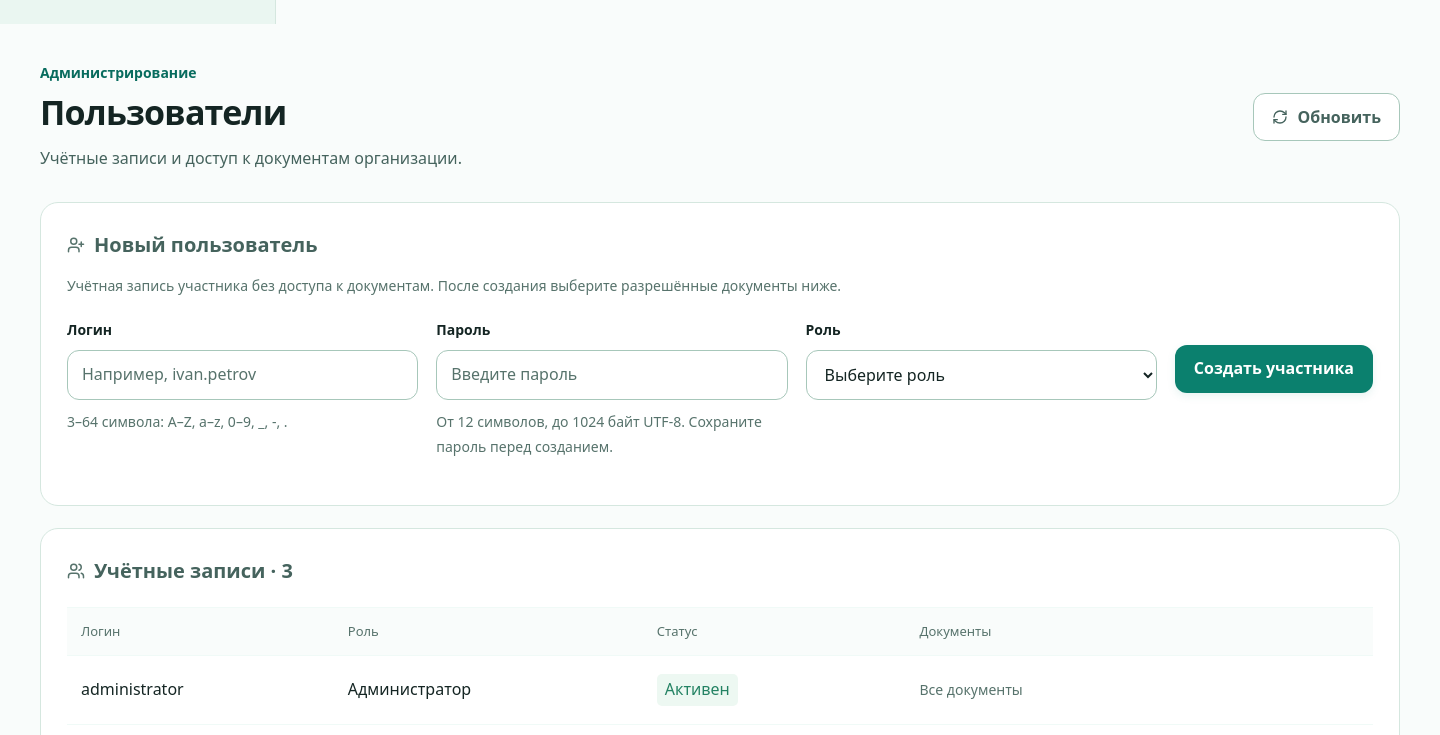
it: member creation with a visual job role › shows safe HTTP 400 error and clears the password
(page scrolled)
Step 1. Type "new.member" into the field with id "new-username" → (243, 375), box 67,350 -> 418,400
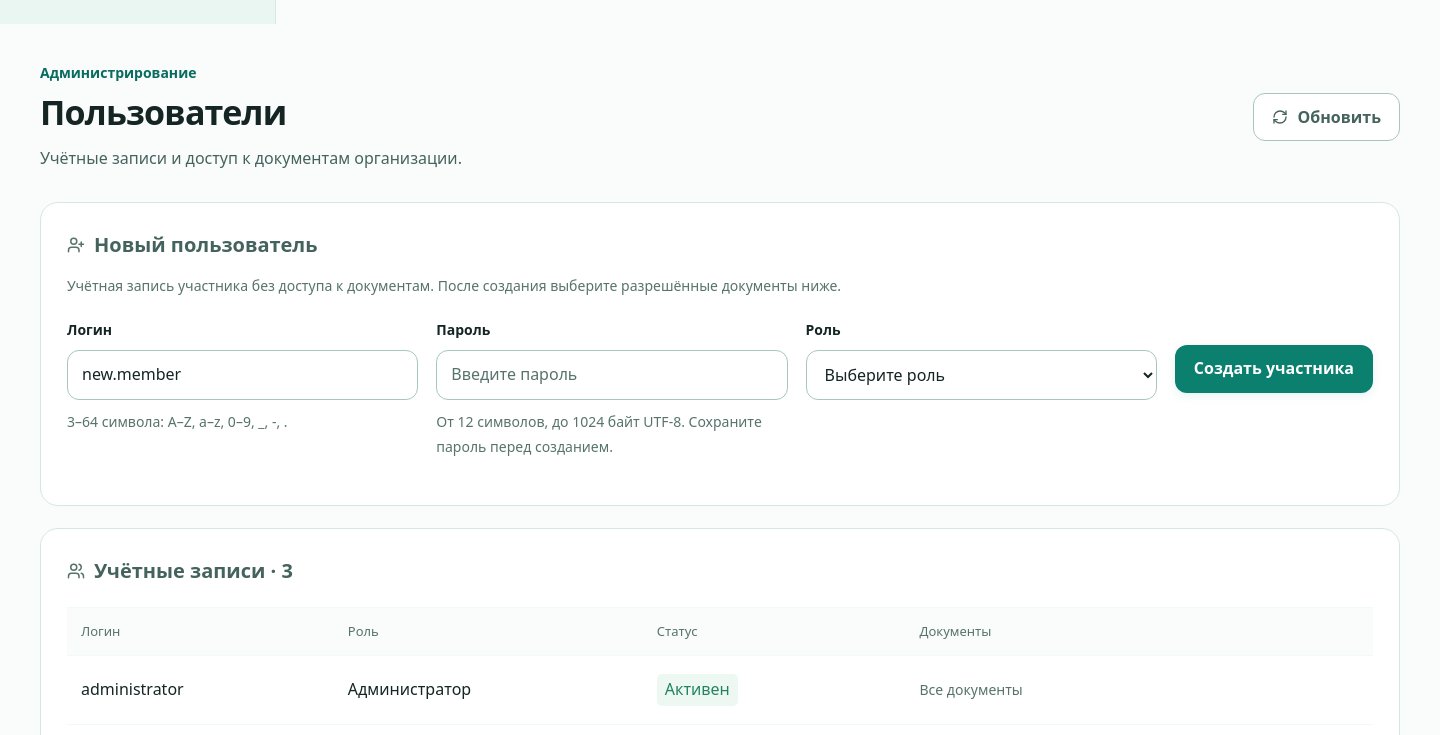
Step 2. Type "fixture-password-123" into the password field with id "new-password" → (612, 375), box 436,350 -> 788,400
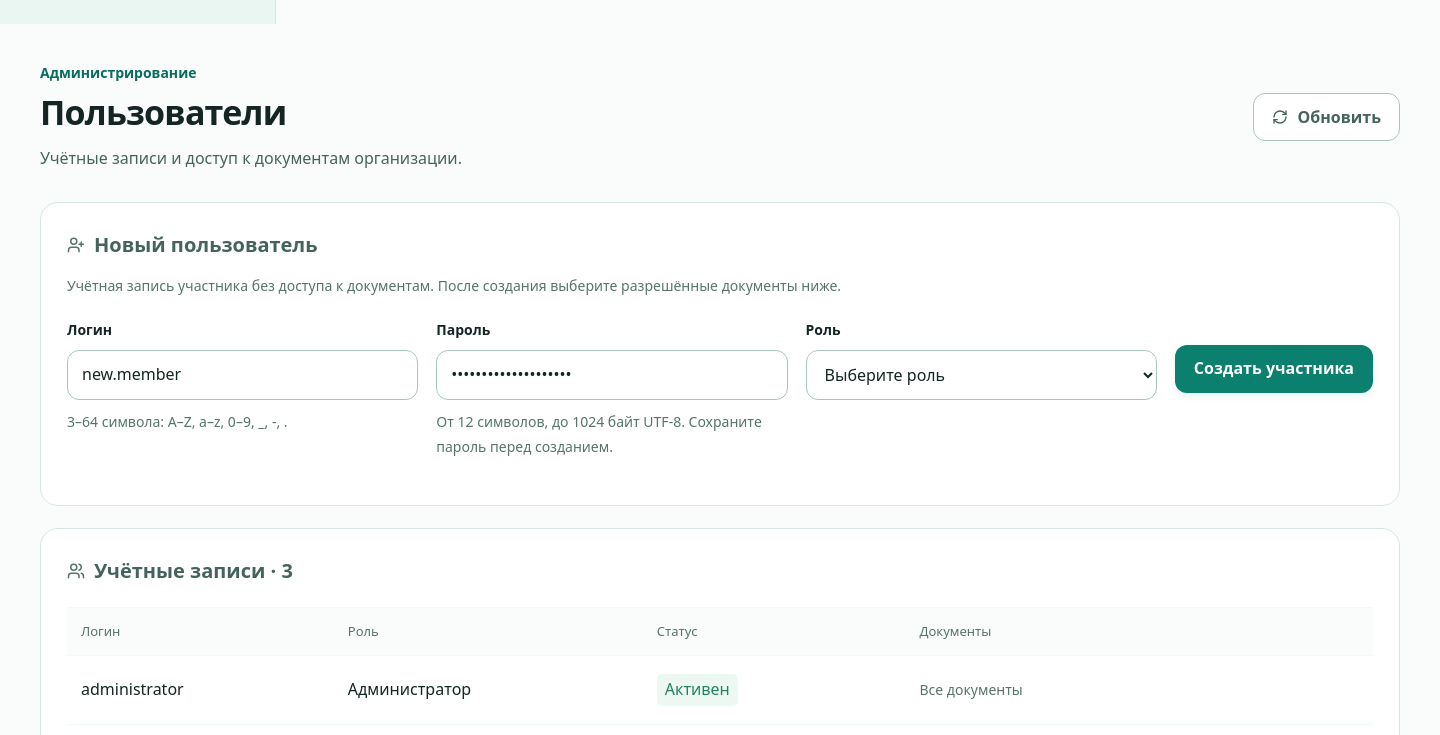
Step 3. Submit the form, box 67,319 -> 1373,459
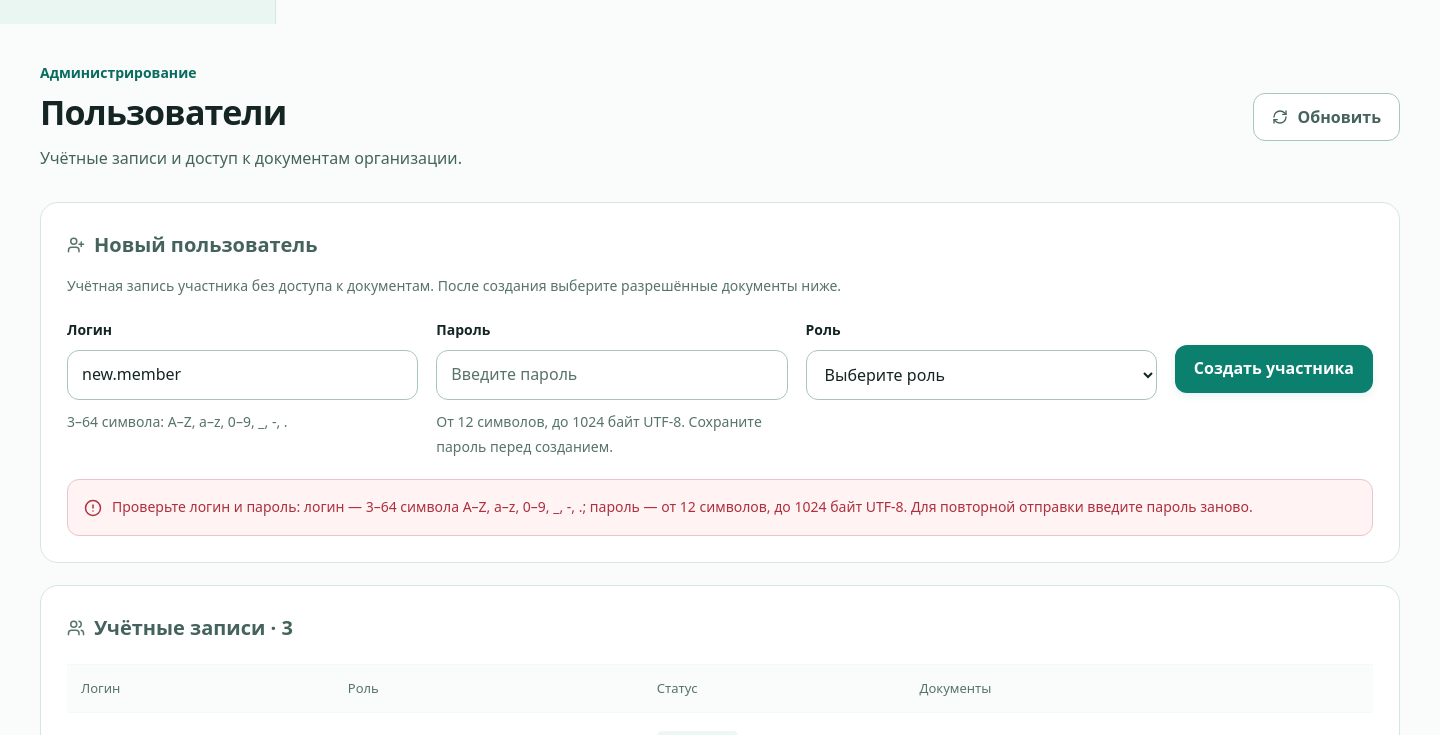
Expected: the message shows "Проверьте логин и пароль", 112,497 -> 1253,516
Expected: the password field with id "new-password" is empty, 436,350 -> 788,400
